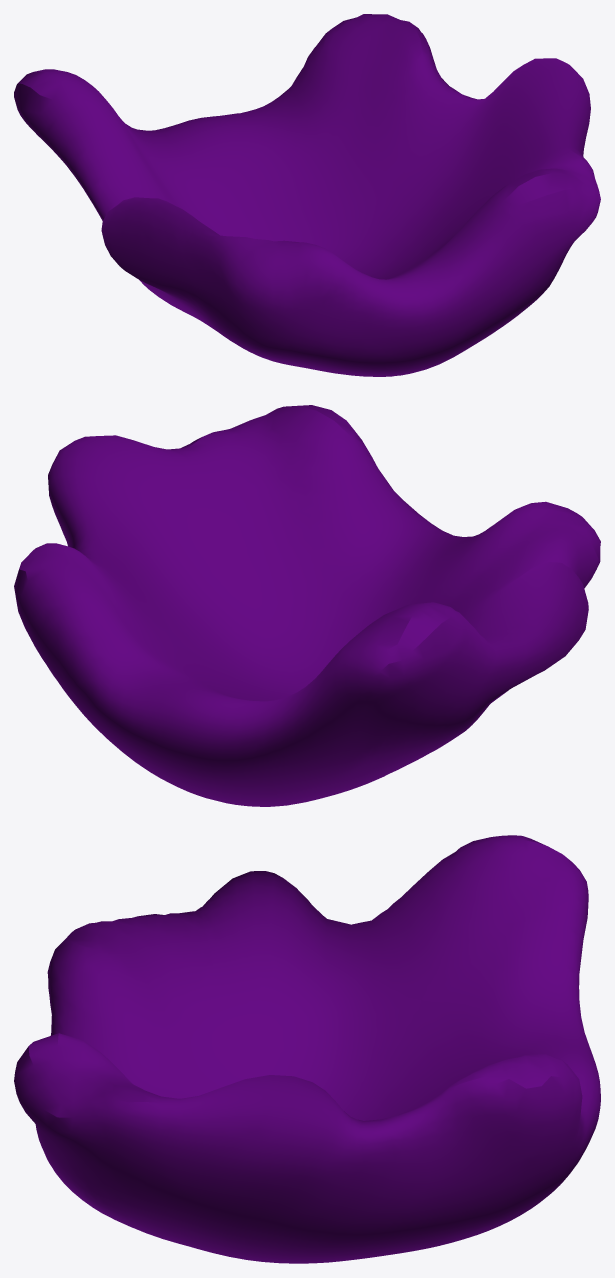
File: Slime.fbx
The picture shows the model from 3 angles, top to bottom: view 1: azimuth 30°, elevation 25°; view 2: azimuth 150°, elevation 25°; view 3: azimuth 270°, elevation 25°; orthographic projection. The views are drawn at different scales.
Visible parts, largest first — view 1: Cube; view 2: Cube; view 3: Cube.
Part boxes in pixels (x1=…): Cube: x1=14, y1=14, x2=600, y2=376; Cube: x1=14, y1=405, x2=600, y2=806; Cube: x1=14, y1=835, x2=600, y2=1263.
Size of the model in its own units: 289 by 138 by 264.
